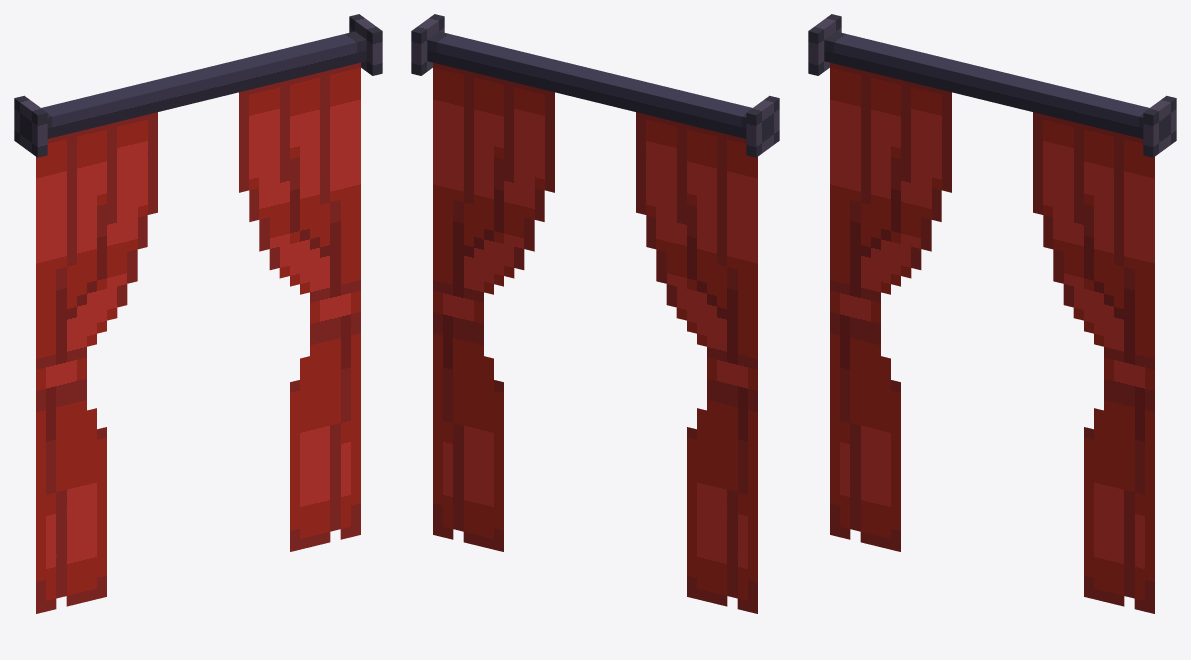
File: curtains.gltf
3 renders of one model, left to right at view 1: azimuth 30°, elevation 25°; view 2: azimuth 150°, elevation 25°; view 3: azimuth 330°, elevation 25°, orthographic.
Visible parts, largest first — view 1: cube (×5); view 2: cube (×5); view 3: cube (×5).
Boxes of the visible parts, box(x1,y1,x2,y2) form: cube (×5): box(14, 14, 382, 613); cube (×5): box(411, 14, 779, 613); cube (×5): box(808, 14, 1176, 613).
Size of the model in its own units: 2.12 by 3.19 by 0.25.
1 material, 1 textured.
